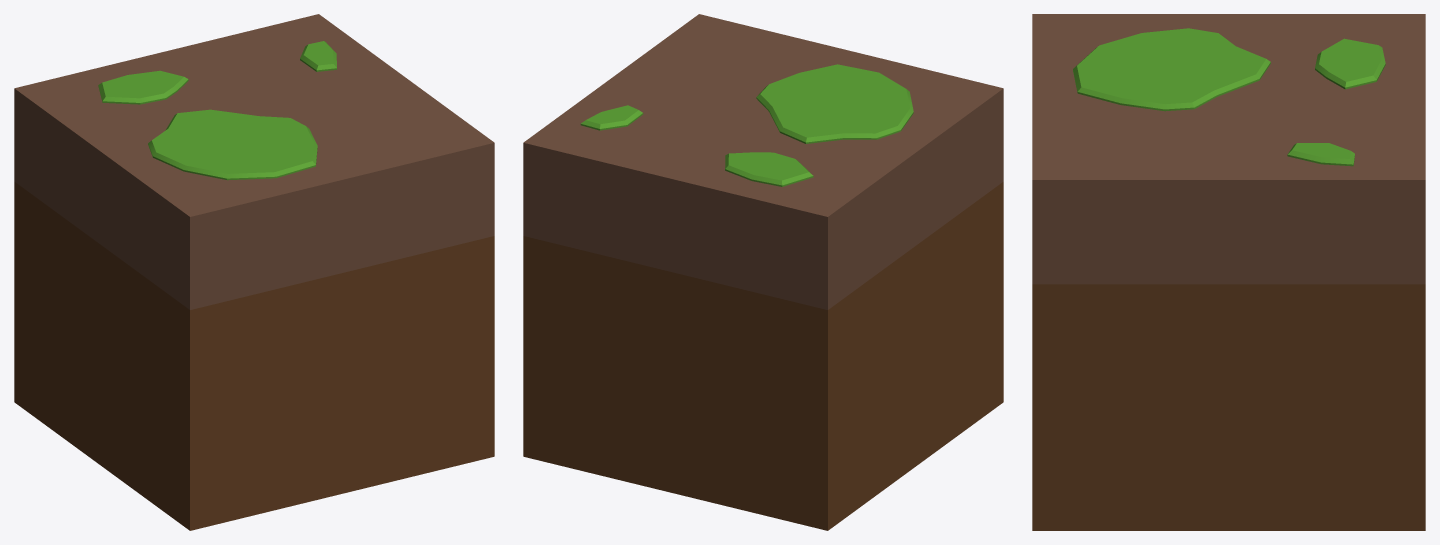
File: Ground-Grass-Island 1.fbx
3 views of the same model, side by side, from view 1: azimuth 30°, elevation 25°; view 2: azimuth 150°, elevation 25°; view 3: azimuth 270°, elevation 25° (orthographic). The views are drawn at different scales.
Visible parts, largest first — view 1: Grass/Ground 6; view 2: Grass/Ground 6; view 3: Grass/Ground 6.
Part boxes in pixels (box(x1,y1,x2,y2)): Grass/Ground 6: box(14, 14, 494, 530); Grass/Ground 6: box(523, 14, 1003, 530); Grass/Ground 6: box(1032, 14, 1425, 530).
Size of the model in its own units: 2 by 2 by 2.
